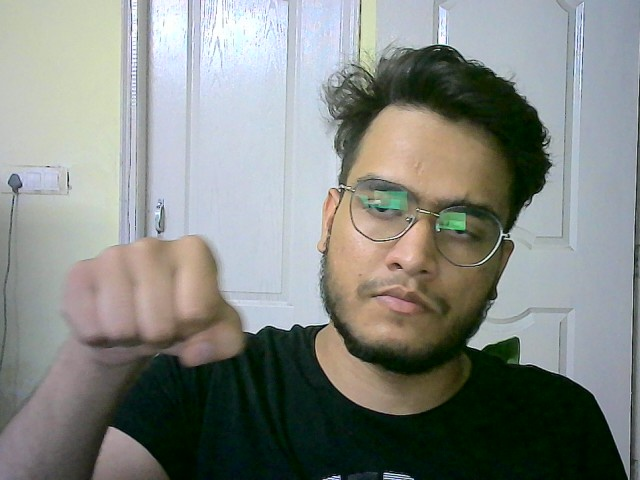Yes: (57, 227, 258, 374)
